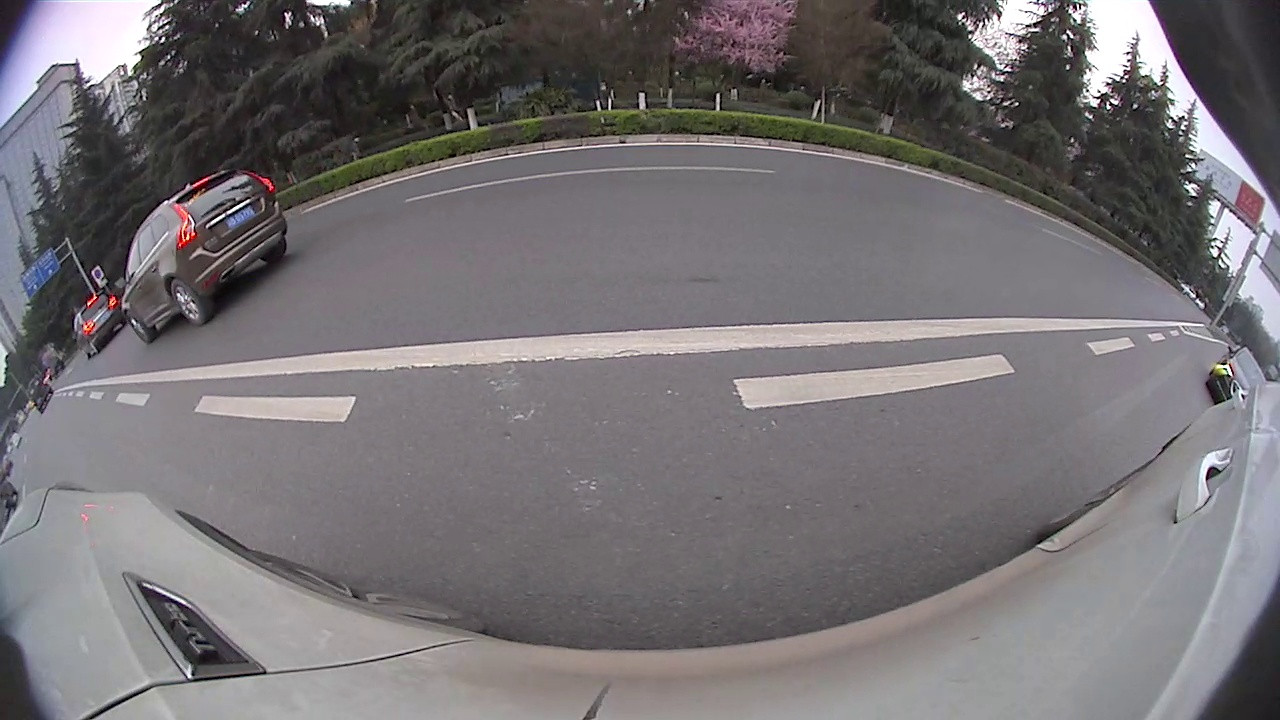bus: (775, 0, 1278, 437)
car: (558, 106, 775, 254), (313, 150, 506, 259), (526, 159, 559, 196)
front: (775, 180, 799, 225), (492, 188, 506, 216)
rear: (1012, 252, 1120, 371), (424, 201, 450, 243)
